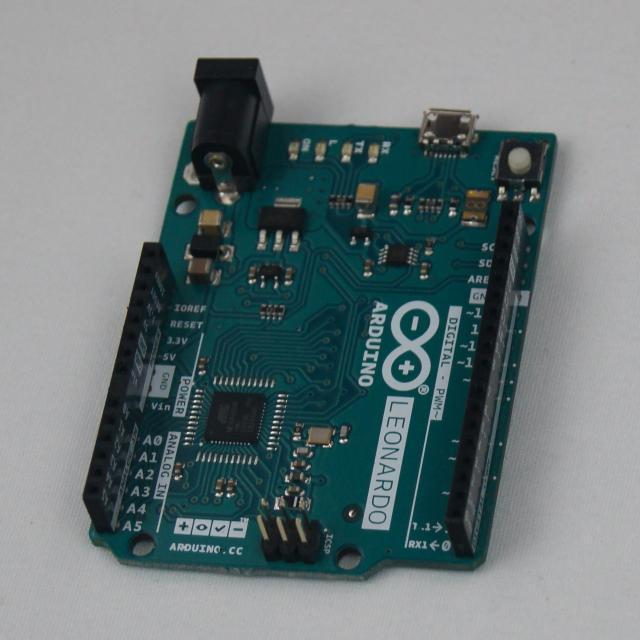Arduino-leonardo: (84, 60, 556, 577)
